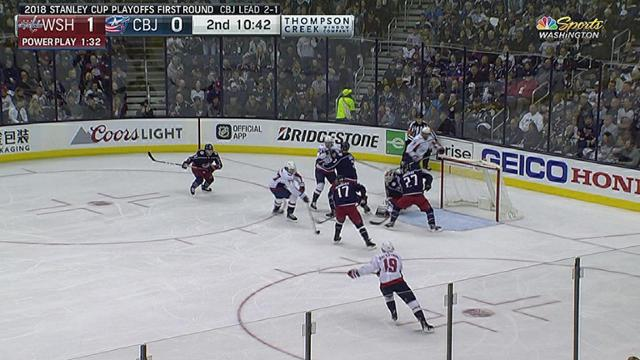geico: (480, 143, 569, 189)
